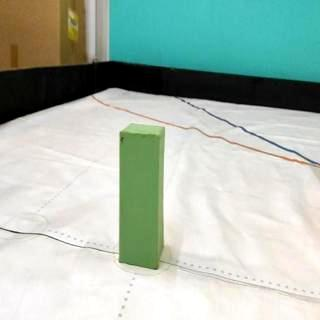greenbox: (119, 123, 165, 270)
